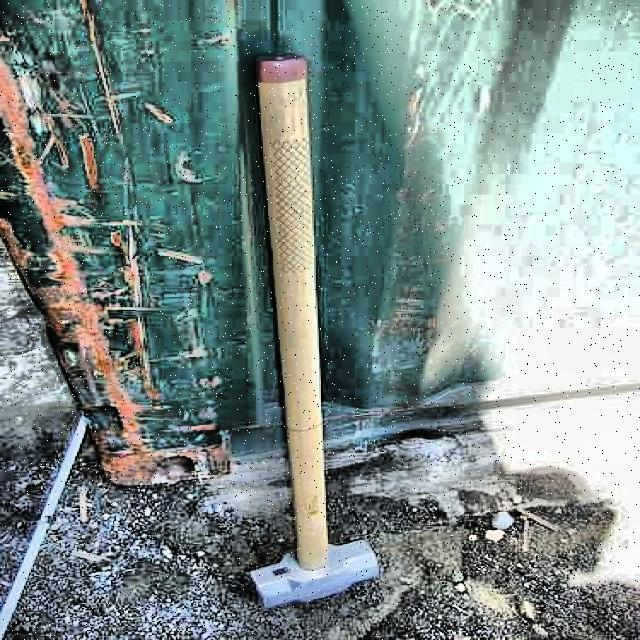hammer: (247, 53, 381, 610)
